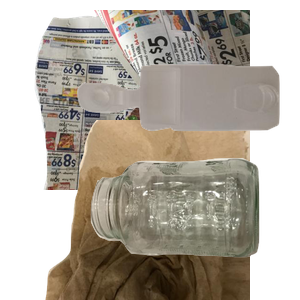glass: (88, 156, 300, 300)
paper: (32, 10, 272, 190)
plastic: (75, 62, 300, 186)
trash: (43, 120, 283, 300)
